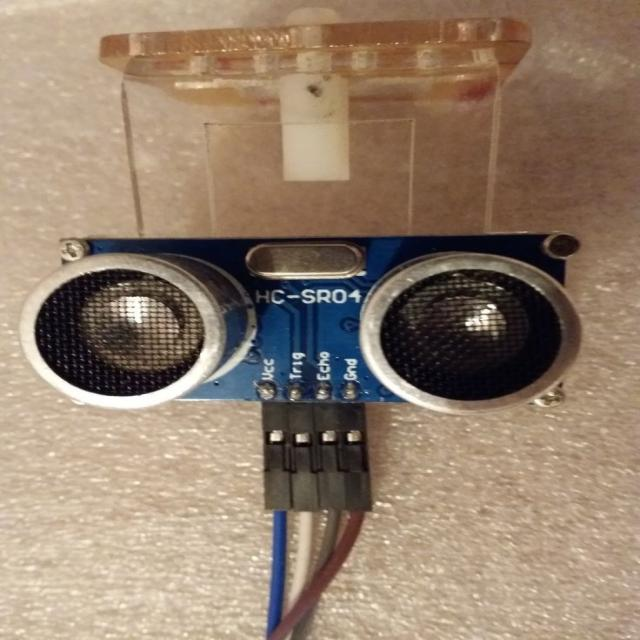Ultrasonic Sensor: (13, 216, 596, 428)
